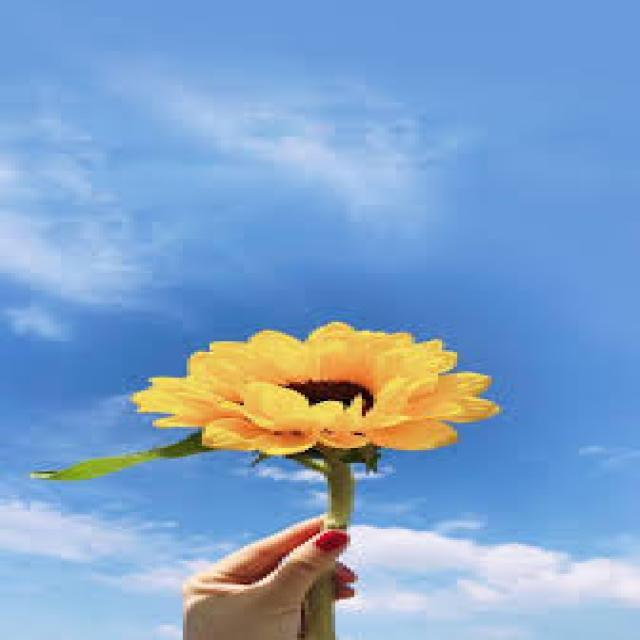sunflower: (130, 322, 500, 455)
